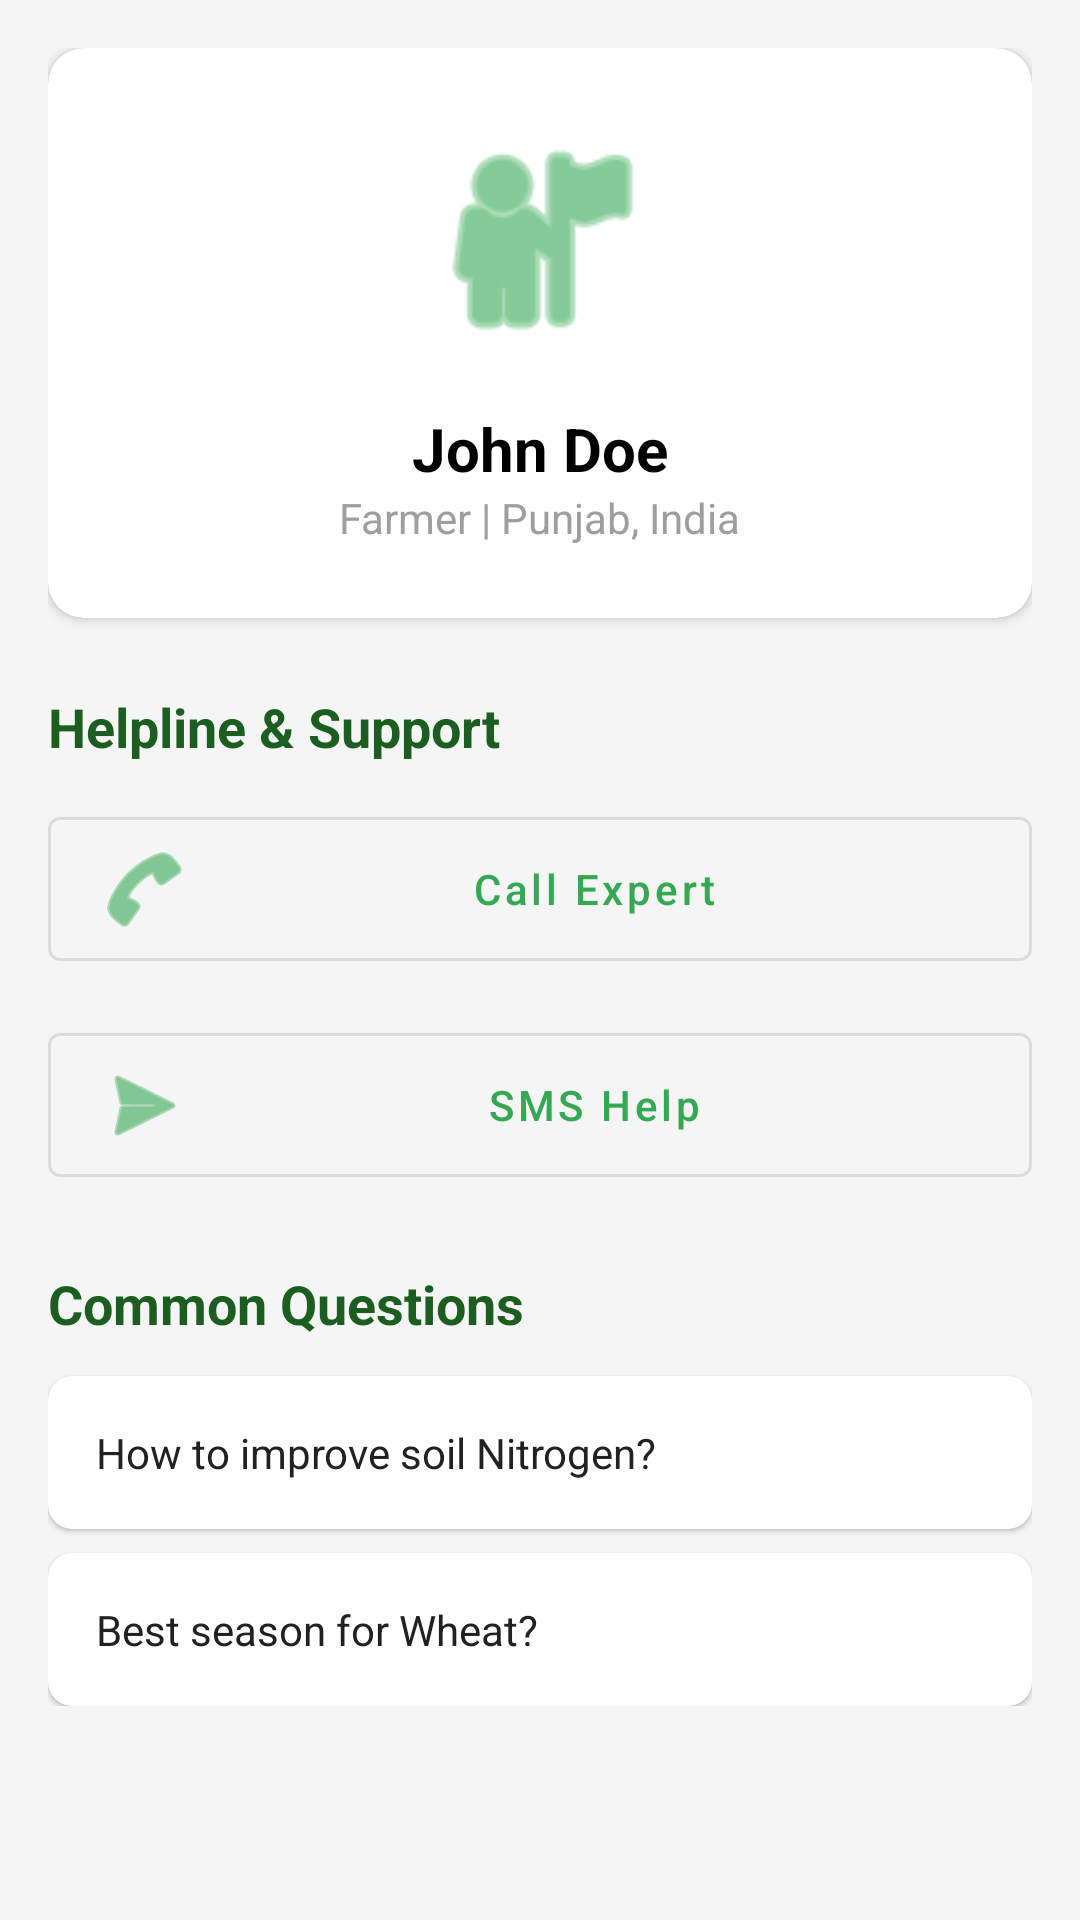

Screen size 1080 × 1920. Icon name, then its center in pixels as (x=x, y=y):
myplaces: (x=542, y=240)
